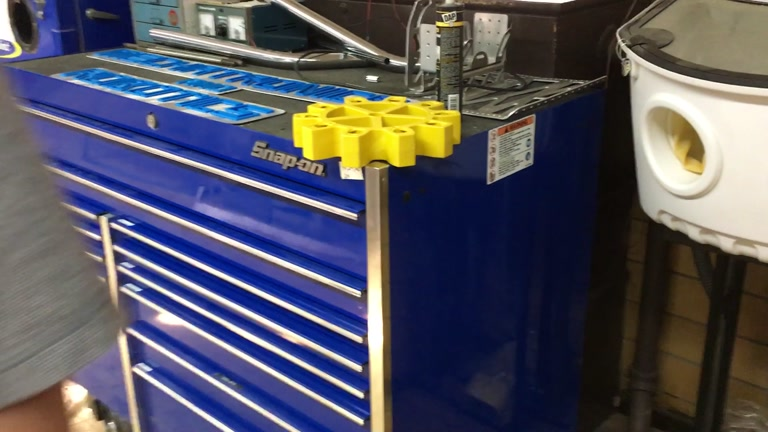gear: (290, 95, 462, 169)
